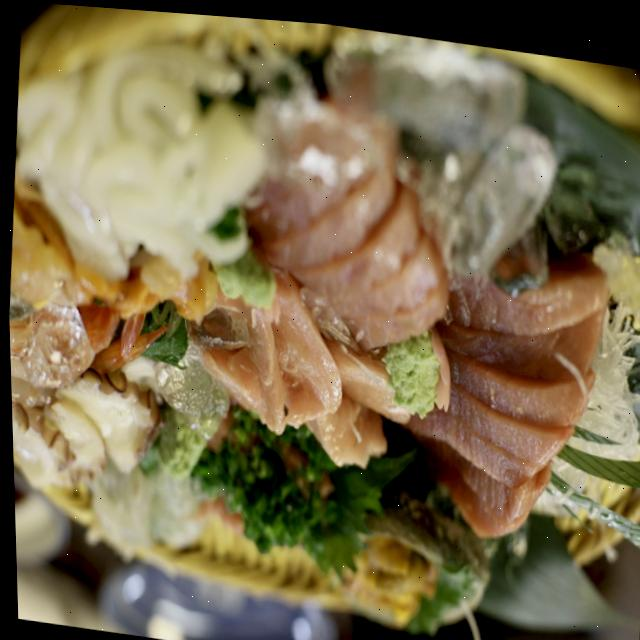刺身生食: (233, 69, 640, 611)
